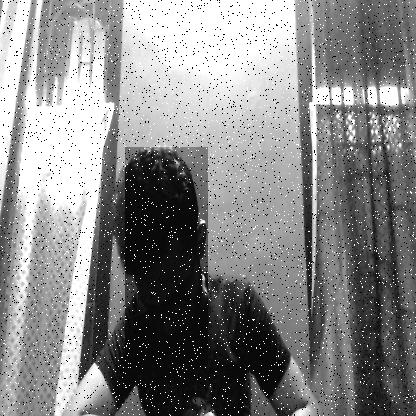Distracted: (125, 147, 208, 365)
